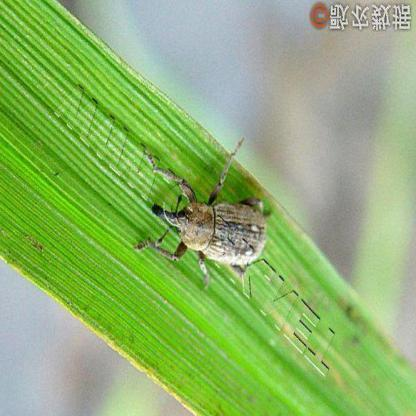rice-bug: (142, 154, 269, 284)
